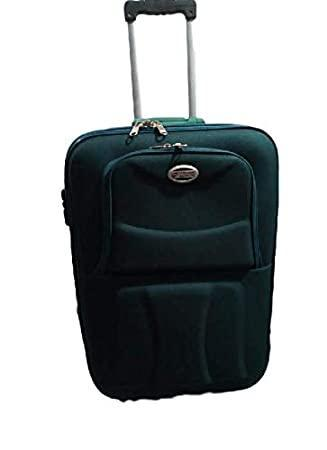suitcase: (55, 113, 284, 406)
